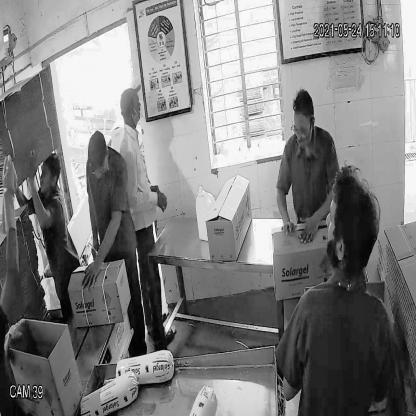goggles: (288, 118, 315, 141)
